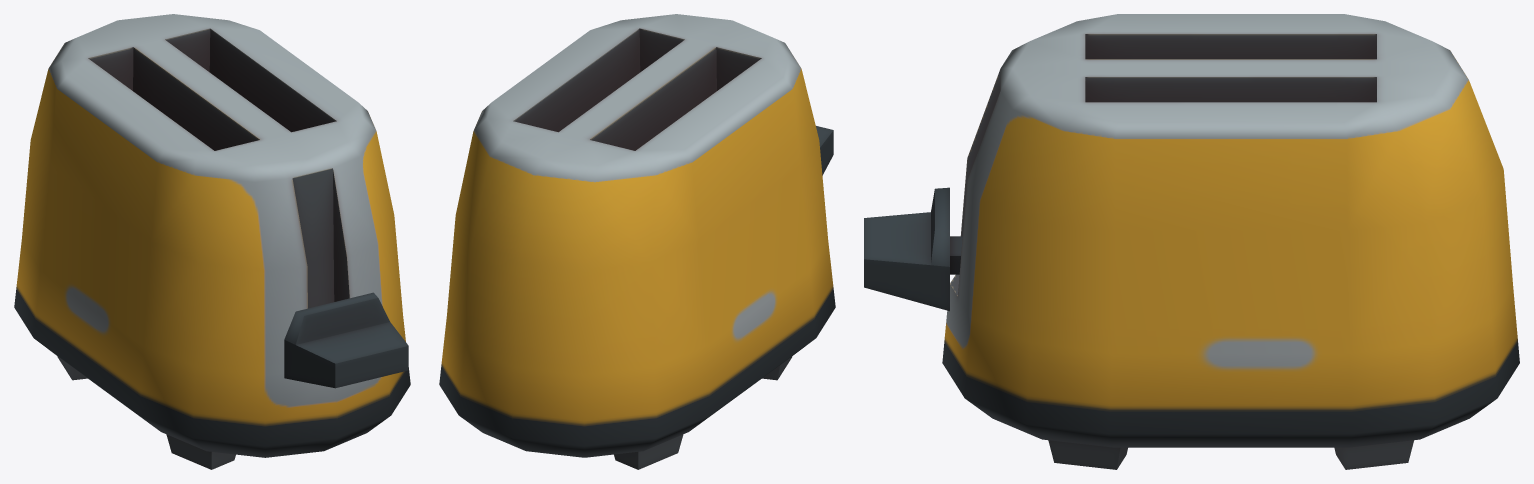
Rendered from toster_01.fbx.
3 views of the same model, side by side, from view 1: azimuth 30°, elevation 25°; view 2: azimuth 150°, elevation 25°; view 3: azimuth 270°, elevation 25° (orthographic). The views are drawn at different scales.
Visible parts, largest first — view 1: toster_01_ready1; view 2: toster_01_ready1; view 3: toster_01_ready1.
Part boxes in pixels (x1,y1,x2,y2): toster_01_ready1: (14,14,410,469); toster_01_ready1: (439,14,835,469); toster_01_ready1: (864,14,1519,469).
Size of the model in its own units: 27.63 by 31.96 by 54.16.
